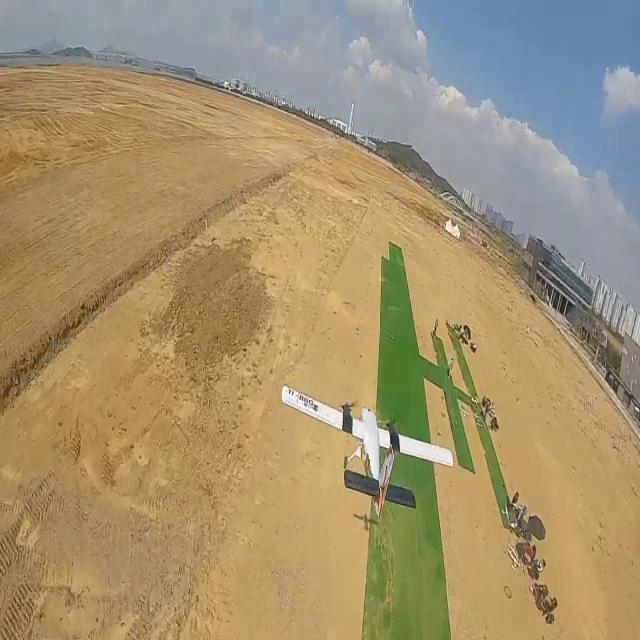iha: (278, 385, 456, 516)
